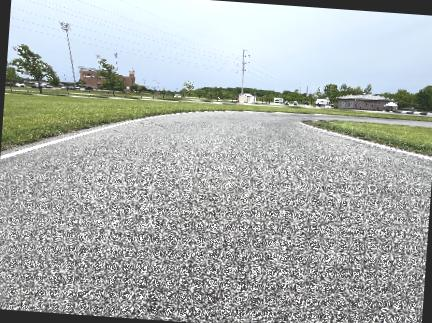Grass: (1, 94, 400, 149), (309, 120, 431, 155)
Lane: (0, 112, 431, 322)
